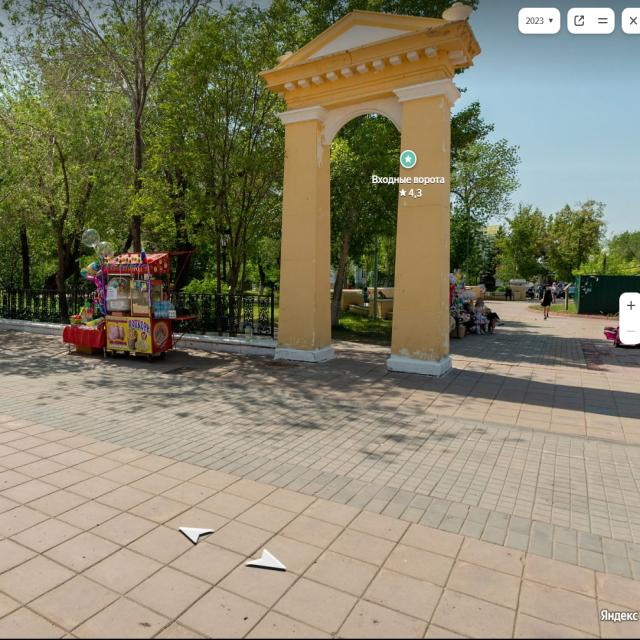market: (102, 246, 180, 358), (63, 240, 109, 356)
